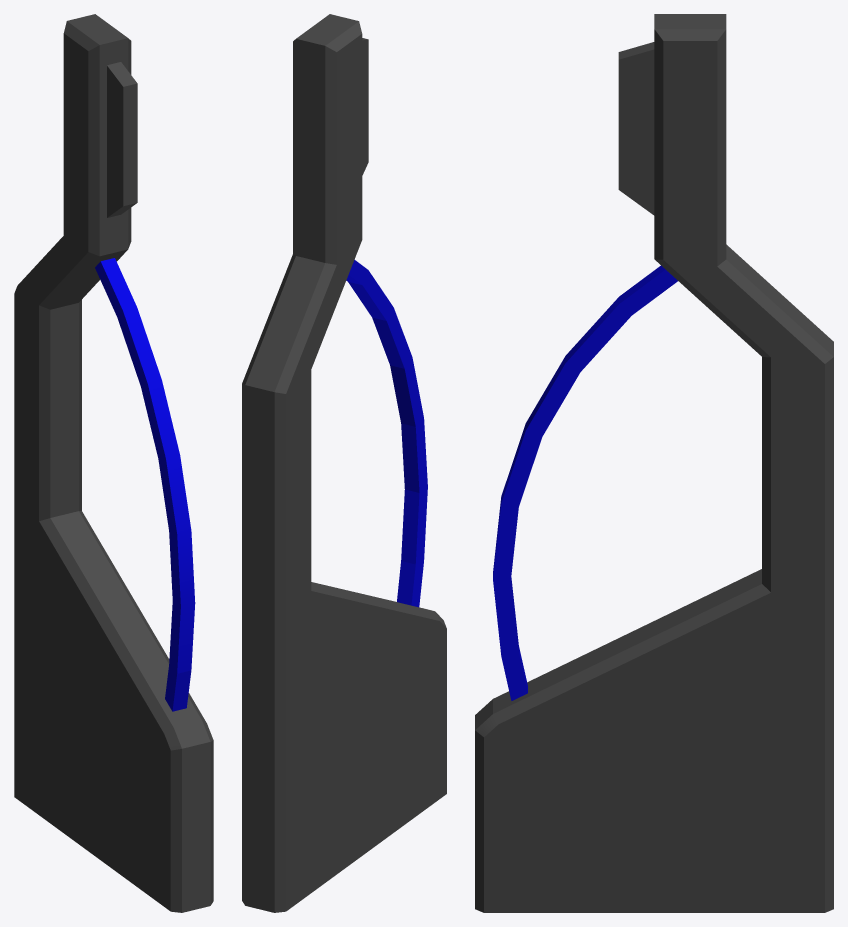
Rendered from HangercColumn.fbx.
3 renders of one model, left to right at view 1: azimuth 30°, elevation 25°; view 2: azimuth 150°, elevation 25°; view 3: azimuth 270°, elevation 25°, orthographic. The views are drawn at different scales.
Parts seen in each view (by area): view 1: Main, RoundAccent, PipePart; view 2: Main, RoundAccent, PipePart; view 3: Main, RoundAccent, PipePart.
Part boxes in pixels (x1,y1,x2,y2): Main: (14,14,213,912); RoundAccent: (95,258,195,711); PipePart: (107,62,137,217); Main: (242,14,446,912); RoundAccent: (346,259,427,607); PipePart: (362,38,368,175); Main: (475,14,833,912); RoundAccent: (493,265,677,700); PipePart: (618,42,654,215).
Bounding box in the file's own units: 3 × 54.11 × 20.
